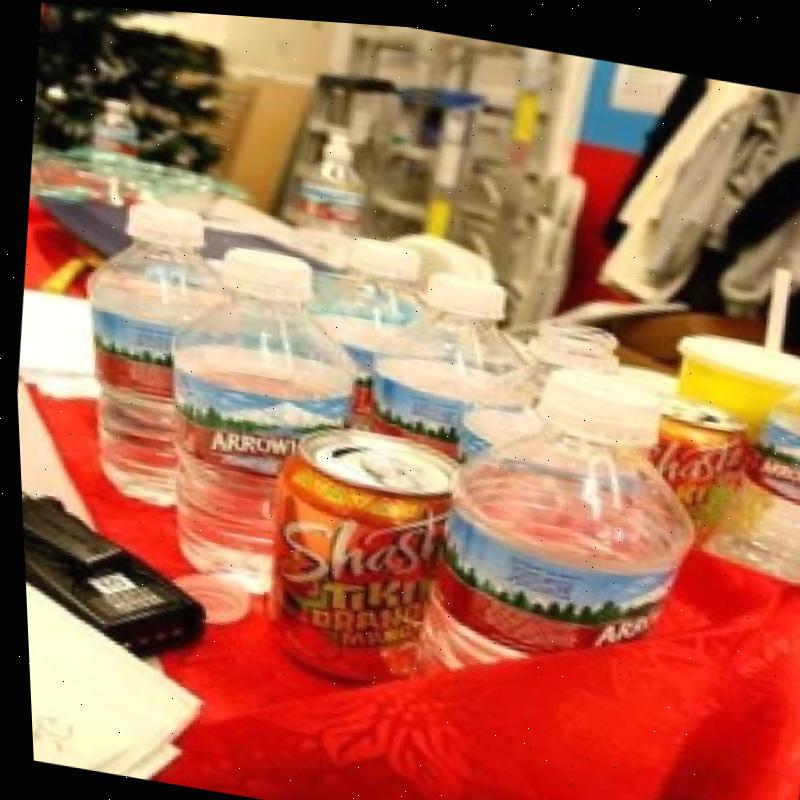botella: (397, 333, 713, 716), (139, 229, 377, 603), (58, 187, 239, 521), (357, 256, 545, 469), (303, 227, 437, 401), (702, 359, 800, 572), (524, 308, 623, 382)
